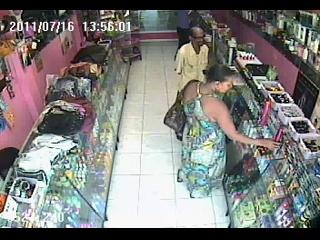Normal: (177, 64, 282, 202), (176, 26, 210, 92), (163, 89, 188, 135)
